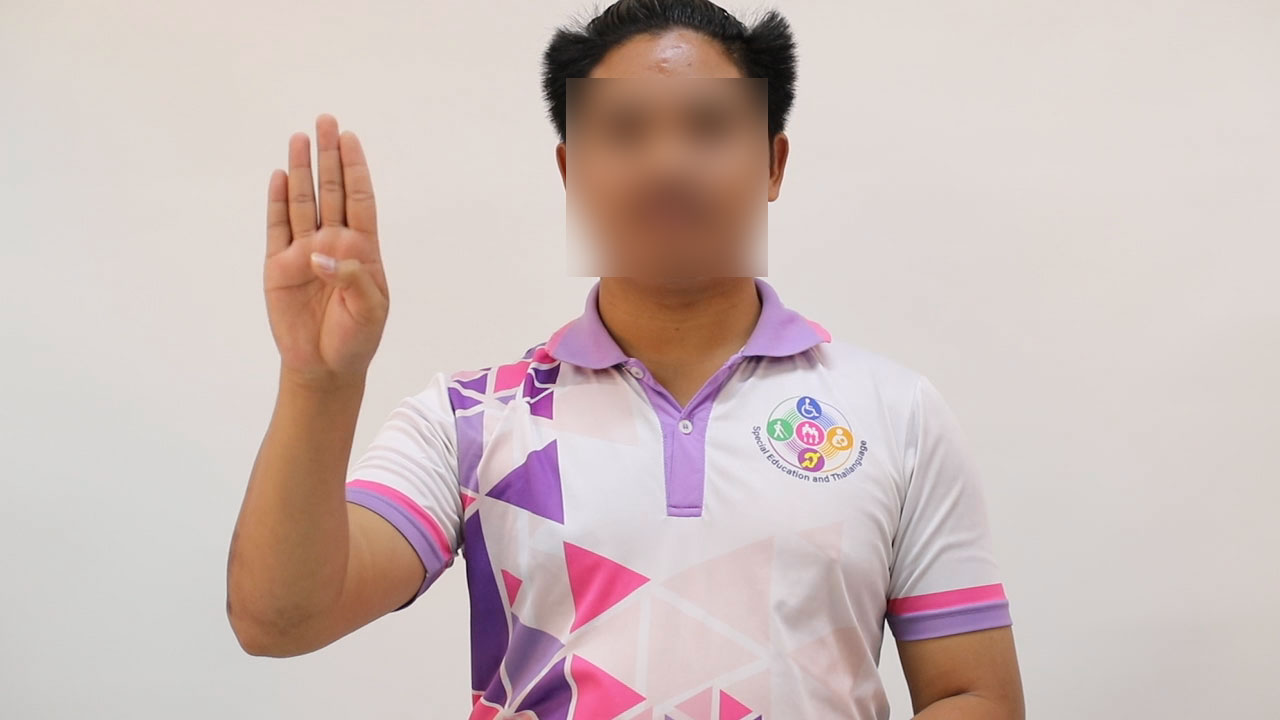bor: (231, 88, 411, 428)
